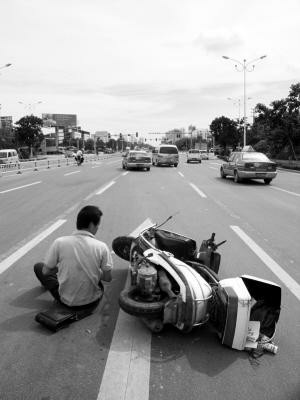fall: (29, 200, 115, 322)
